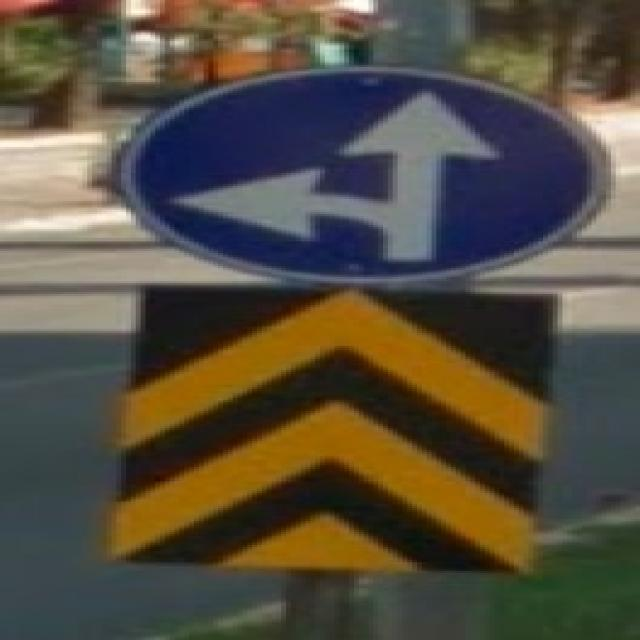Straight or Left: (115, 68, 614, 284)
